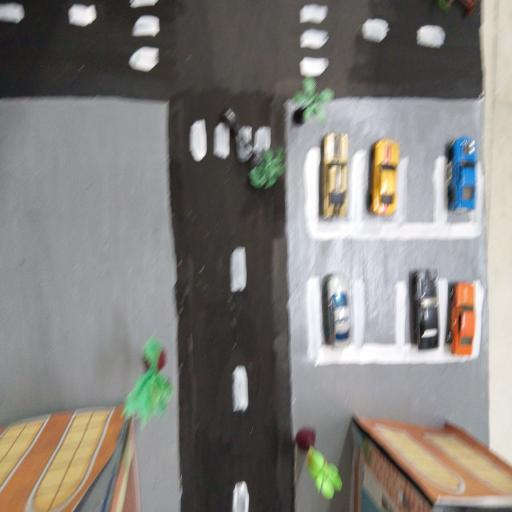fallen trees: (219, 106, 285, 189), (437, 0, 483, 21)
